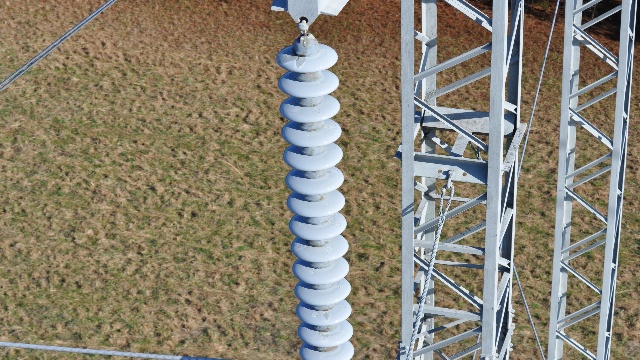insulator_unspecified: (277, 43, 354, 359)
pollution_flashover_local: (277, 50, 306, 68), (317, 330, 331, 343), (287, 105, 303, 116), (293, 243, 308, 252), (328, 218, 342, 227), (322, 309, 331, 320), (323, 124, 338, 130), (327, 168, 340, 174), (313, 105, 321, 113), (325, 145, 336, 150), (336, 304, 346, 309)
